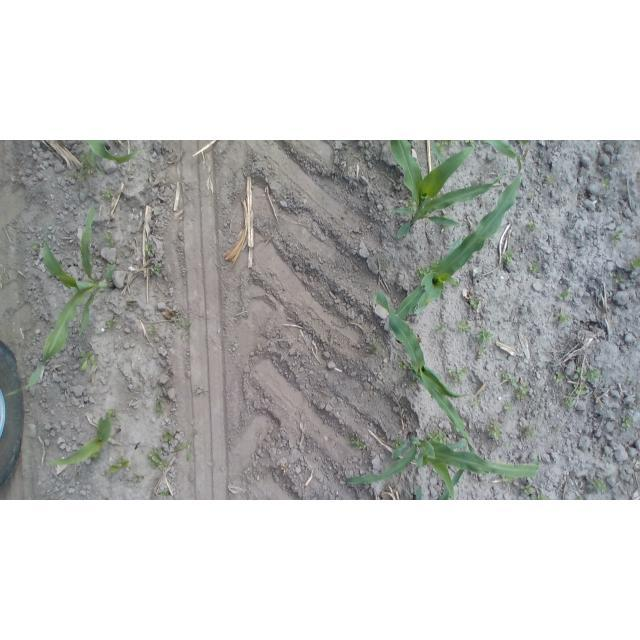Maize: (0, 201, 118, 403), (367, 275, 481, 455), (412, 167, 529, 315), (340, 426, 547, 498), (386, 140, 512, 242), (46, 415, 114, 472), (83, 141, 145, 178), (475, 140, 521, 162)
Weeds: (572, 365, 602, 396), (174, 438, 197, 461), (73, 155, 92, 182), (146, 450, 170, 471), (417, 256, 442, 276), (77, 352, 103, 370), (520, 485, 550, 500), (170, 311, 193, 330), (477, 328, 492, 356), (109, 457, 131, 475), (512, 381, 531, 401), (446, 368, 467, 386), (427, 428, 448, 444), (500, 247, 518, 265), (488, 421, 503, 442), (591, 476, 609, 493), (351, 438, 370, 454), (501, 371, 518, 388), (103, 231, 119, 248), (554, 309, 570, 326), (434, 140, 456, 152), (607, 228, 623, 244), (527, 261, 541, 278), (543, 173, 558, 188), (561, 394, 575, 410), (105, 316, 120, 330), (151, 263, 165, 278), (553, 371, 568, 385), (619, 414, 633, 429), (153, 399, 164, 417), (104, 407, 118, 421), (162, 431, 175, 446), (193, 385, 209, 397), (396, 360, 410, 373), (466, 296, 479, 310), (557, 288, 570, 302), (522, 425, 536, 438), (498, 472, 513, 484), (458, 322, 471, 335), (144, 246, 156, 259), (130, 474, 146, 483), (105, 189, 116, 202), (146, 326, 157, 338), (526, 220, 537, 232), (503, 402, 514, 413), (435, 325, 446, 336), (180, 335, 192, 345), (630, 258, 640, 270), (31, 239, 40, 252), (369, 342, 383, 350), (158, 489, 170, 498), (393, 438, 405, 447), (600, 177, 610, 187), (408, 380, 417, 391), (472, 398, 483, 407), (614, 273, 622, 285), (408, 201, 418, 210), (528, 193, 534, 199)
